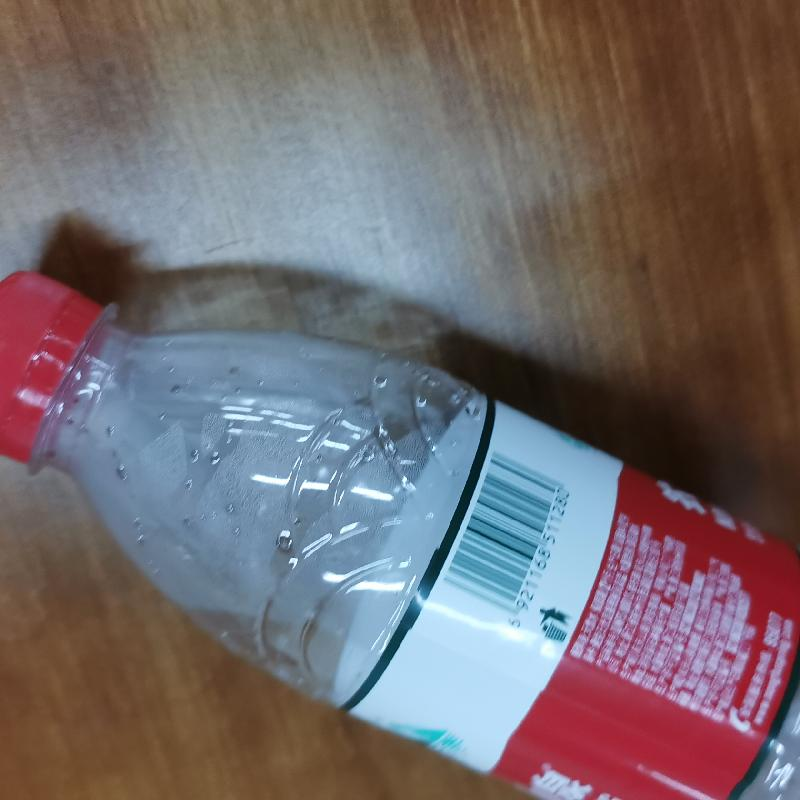bottles: (5, 253, 799, 799)
